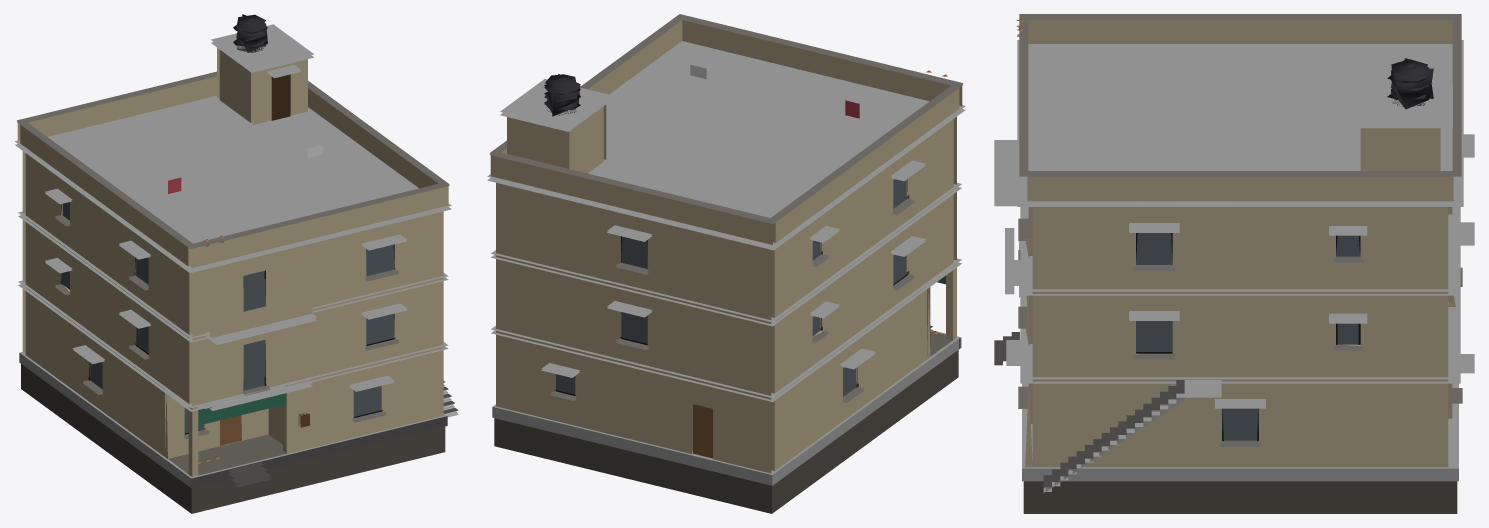
File: tn_house_12x14_3_far.glb
3 views of the same model, side by side, from view 1: azimuth 30°, elevation 25°; view 2: azimuth 150°, elevation 25°; view 3: azimuth 270°, elevation 25° (orthographic). The views are drawn at different scales.
Parts seen in each view (by area): view 1: tn_house_12x14_3; view 2: tn_house_12x14_3; view 3: tn_house_12x14_3.
Part boxes in pixels (<box>): tn_house_12x14_3: <box>15,14,458,513</box>; tn_house_12x14_3: <box>487,14,965,513</box>; tn_house_12x14_3: <box>994,14,1474,513</box>.
Size of the model in its own units: 13.66 by 15.15 by 15.61.
